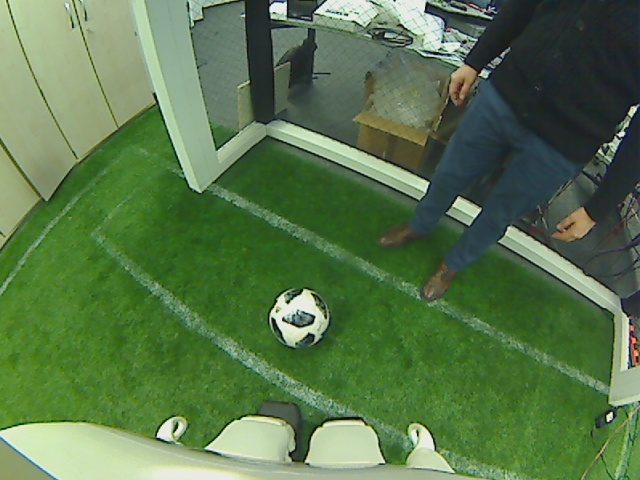ball: (268, 285, 330, 350)
